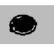correct: (8, 14, 39, 37)
